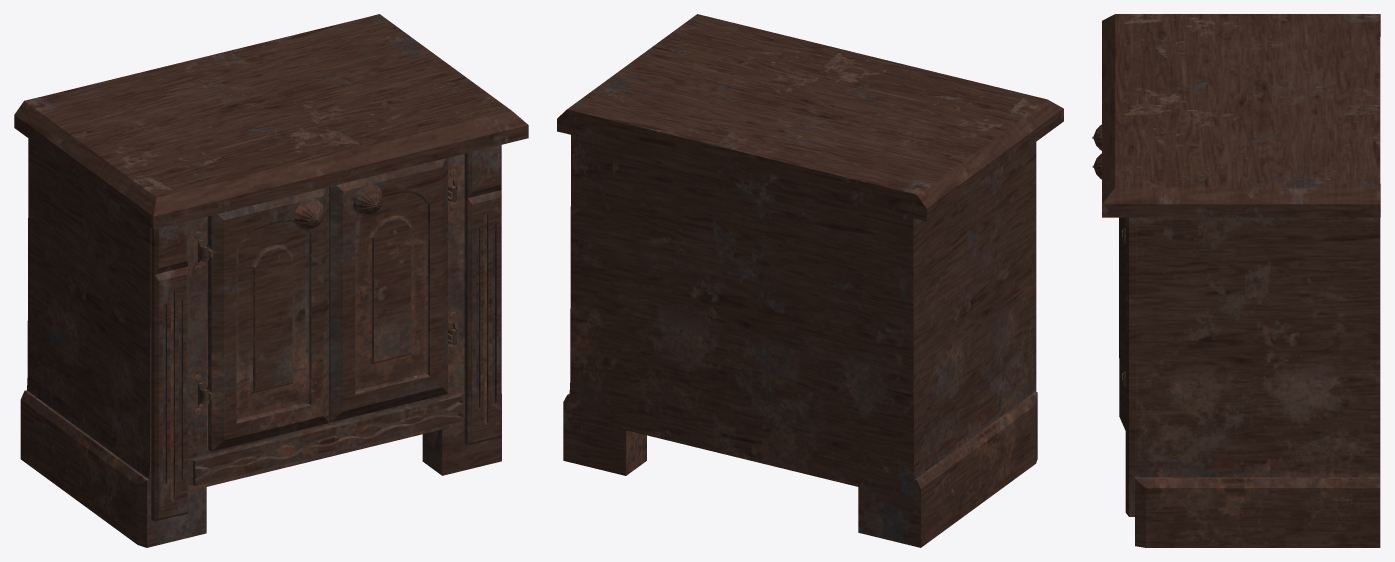
File: meuble.fbx
The picture shows the model from 3 angles, left to right: view 1: azimuth 30°, elevation 25°; view 2: azimuth 150°, elevation 25°; view 3: azimuth 270°, elevation 25°; orthographic projection.
Visible parts, largest first — view 1: buro 2; view 2: buro 2; view 3: buro 2.
Boxes of the visible parts, box(x1,y1,x2,y2) form: buro 2: box(14, 14, 528, 547); buro 2: box(557, 14, 1063, 547); buro 2: box(1092, 14, 1380, 547).
Size of the model in its own units: 135 by 123 by 89.68.
Materials: 1 (1 with a texture image).
